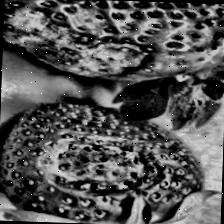Anthracnose Fruit Rot: (1, 0, 167, 81), (32, 133, 166, 200)
